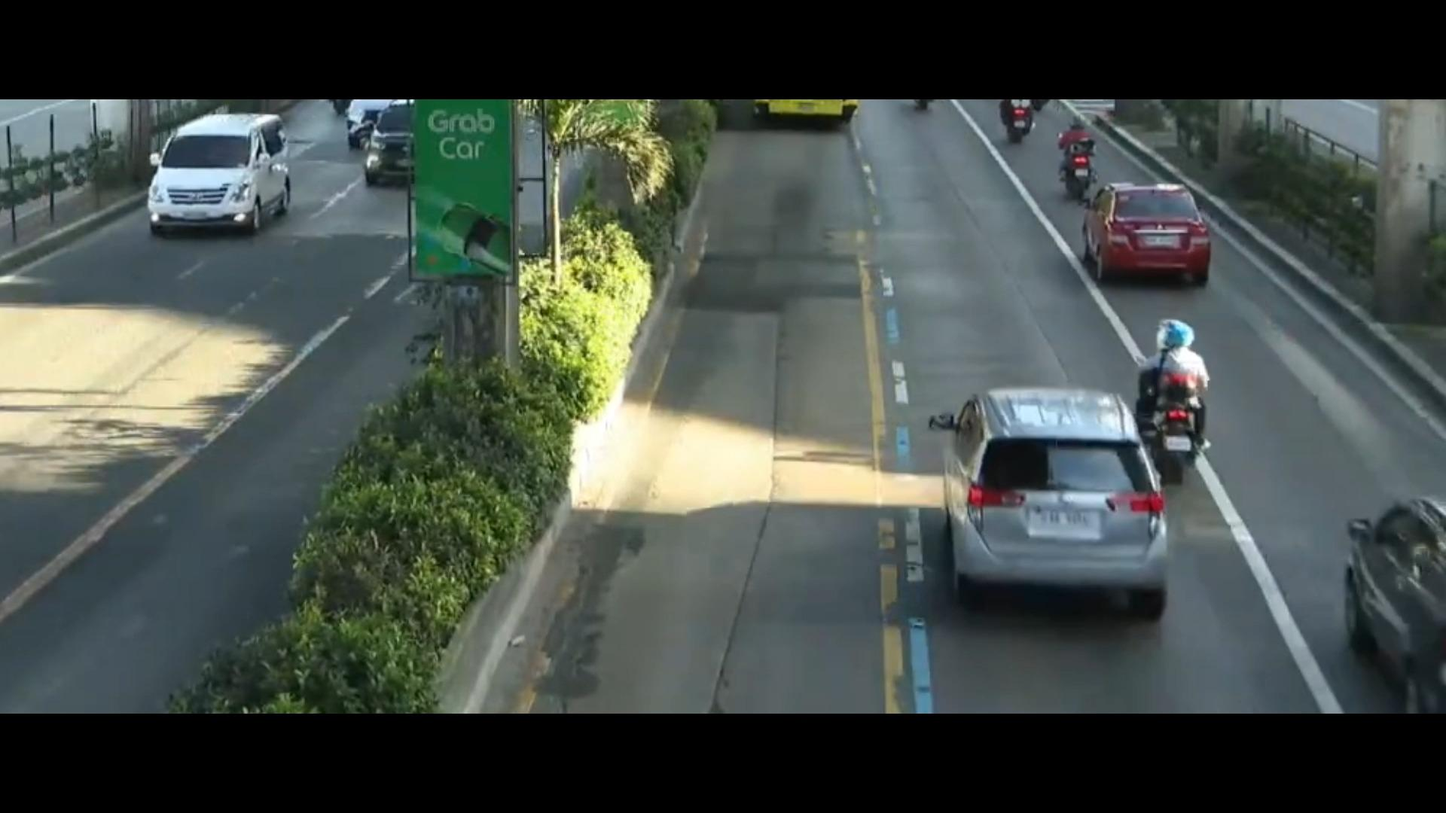Motorcycle: (1126, 323, 1236, 507), (1046, 111, 1115, 217), (997, 93, 1044, 151)
SUV: (914, 372, 1196, 623)
Sedan: (1084, 165, 1225, 306)
Van: (135, 103, 312, 256)
